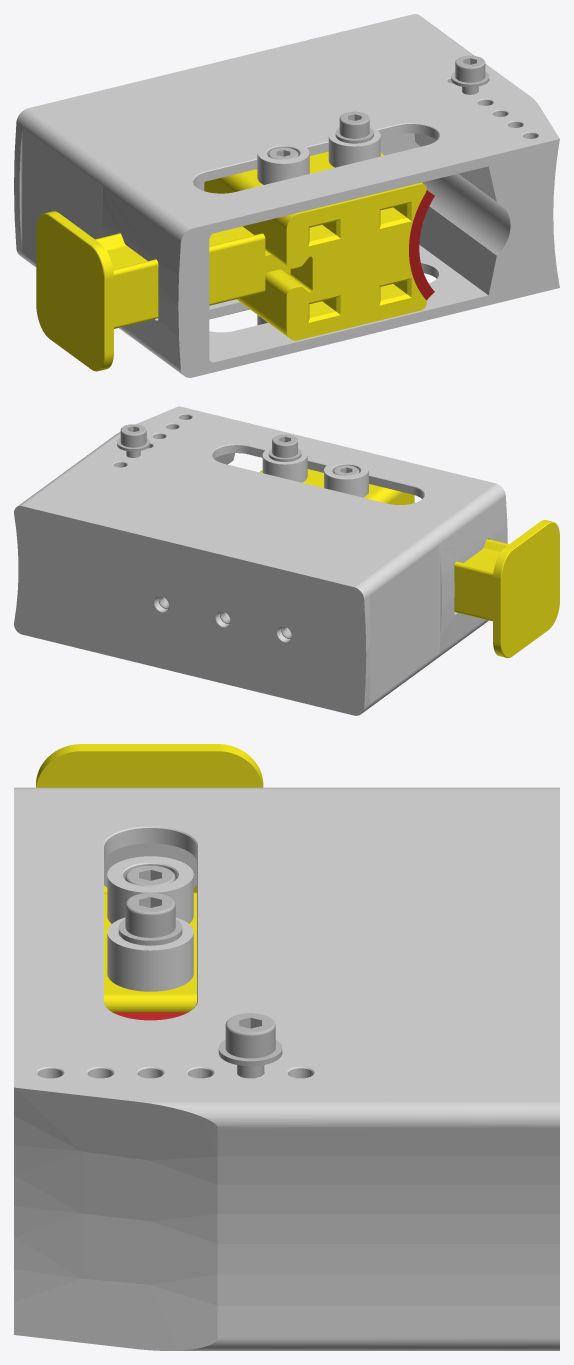
Rendered from tsc_assembly.glb.
3 views of the same model, one above another, from view 1: azimuth 30°, elevation 25°; view 2: azimuth 150°, elevation 25°; view 3: azimuth 270°, elevation 25° (orthographic). The views are drawn at different scales.
Parts seen in each view (by area): view 1: Node1, Node2, Node3, Node4; view 2: Node1, Node2, Node3; view 3: Node1, Node2, Node3.
Boxes of the visible parts, <box> form: Node1: <box>14,14,559,377</box>; Node2: <box>36,151,426,371</box>; Node3: <box>268,55,489,159</box>; Node4: <box>409,190,434,300</box>; Node1: <box>14,406,507,715</box>; Node2: <box>260,469,559,657</box>; Node3: <box>117,424,359,638</box>; Node1: <box>14,787,559,1350</box>; Node2: <box>36,744,263,1012</box>; Node3: <box>118,865,282,1078</box>.
Size of the model in its own units: 100 by 39 by 60.
